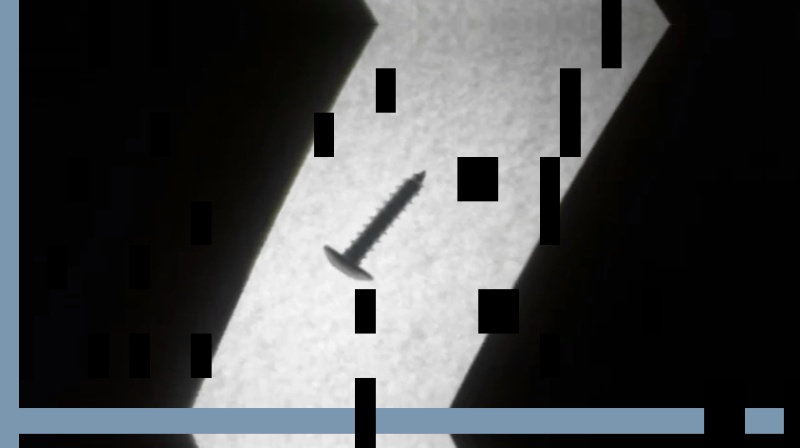S003: (317, 164, 430, 284)
